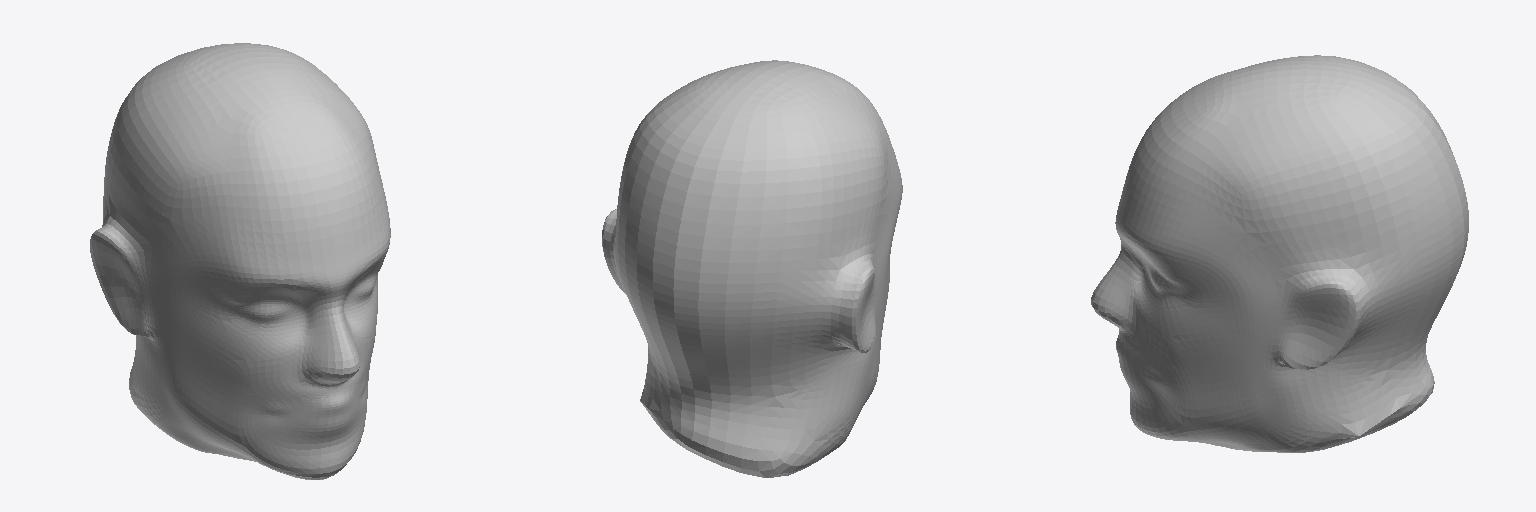
Rendered from head.obj.
3 views of the same model, side by side, from view 1: azimuth 30°, elevation 25°; view 2: azimuth 150°, elevation 25°; view 3: azimuth 270°, elevation 25° (orthographic).
Visible parts, largest first — view 1: basemesh_male_head_basemesh_male.020; view 2: basemesh_male_head_basemesh_male.020; view 3: basemesh_male_head_basemesh_male.020.
Boxes of the visible parts, x1,y1,x2,y2 form: basemesh_male_head_basemesh_male.020: [90, 43, 390, 479]; basemesh_male_head_basemesh_male.020: [602, 60, 902, 477]; basemesh_male_head_basemesh_male.020: [1091, 55, 1468, 452].
Size of the model in its own units: 0.2005 by 0.2746 by 0.2521.